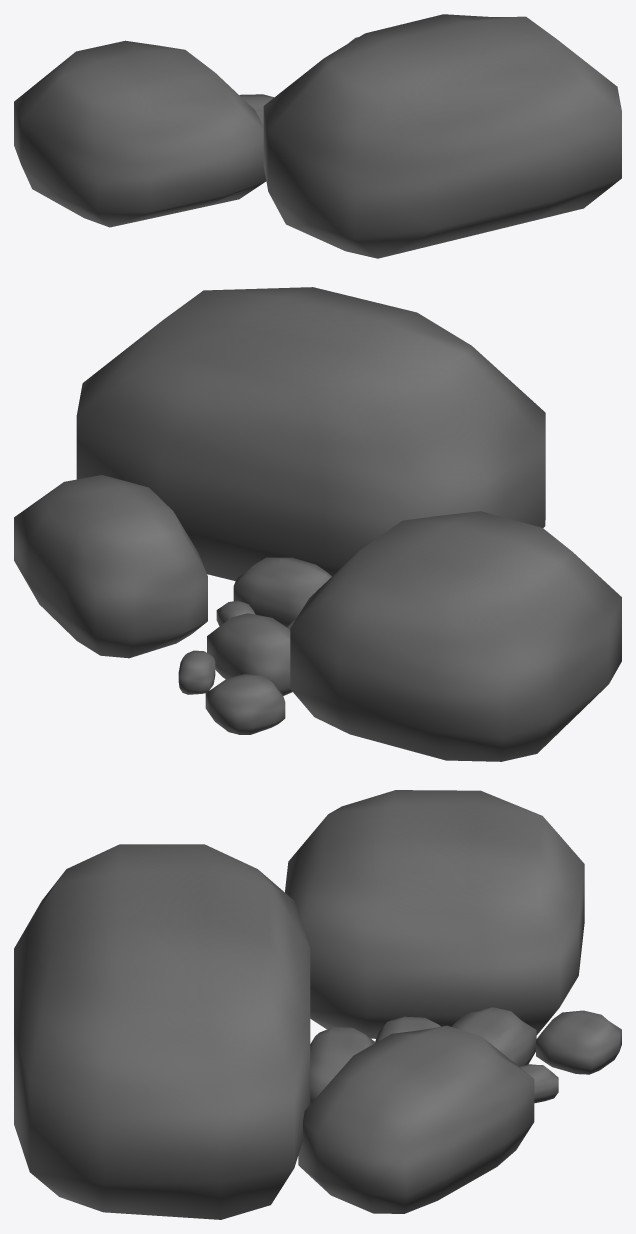
The model's file is piedras.fbx.
3 renders of one model, top to bottom at view 1: azimuth 30°, elevation 25°; view 2: azimuth 150°, elevation 25°; view 3: azimuth 270°, elevation 25°, orthographic. The views are drawn at different scales.
Visible parts, largest first — view 1: piedras; view 2: piedras; view 3: piedras.
Part boxes in pixels (box(x1,y1,x2,y2)): piedras: box(14, 14, 621, 258); piedras: box(14, 287, 621, 761); piedras: box(14, 790, 621, 1219).
Bounding box in the file's own units: 681 × 235 × 567.
Materials: 1 (1 with a texture image).
